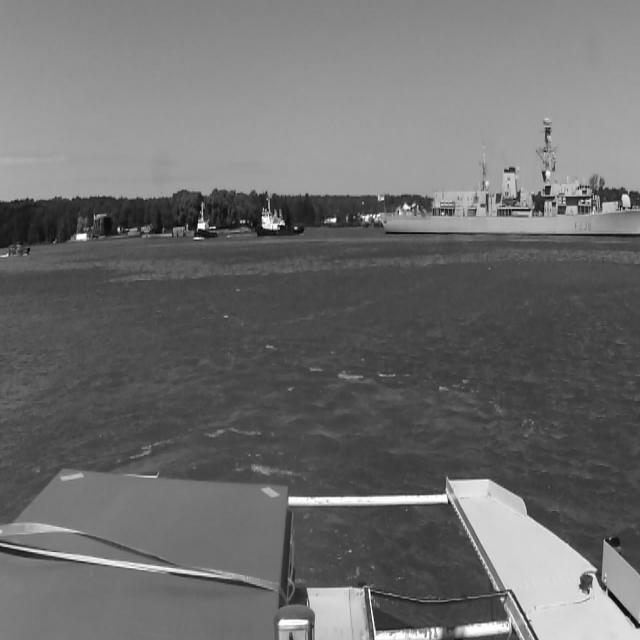ship: (380, 115, 634, 237), (257, 207, 305, 237), (196, 201, 219, 241), (8, 243, 31, 256)
